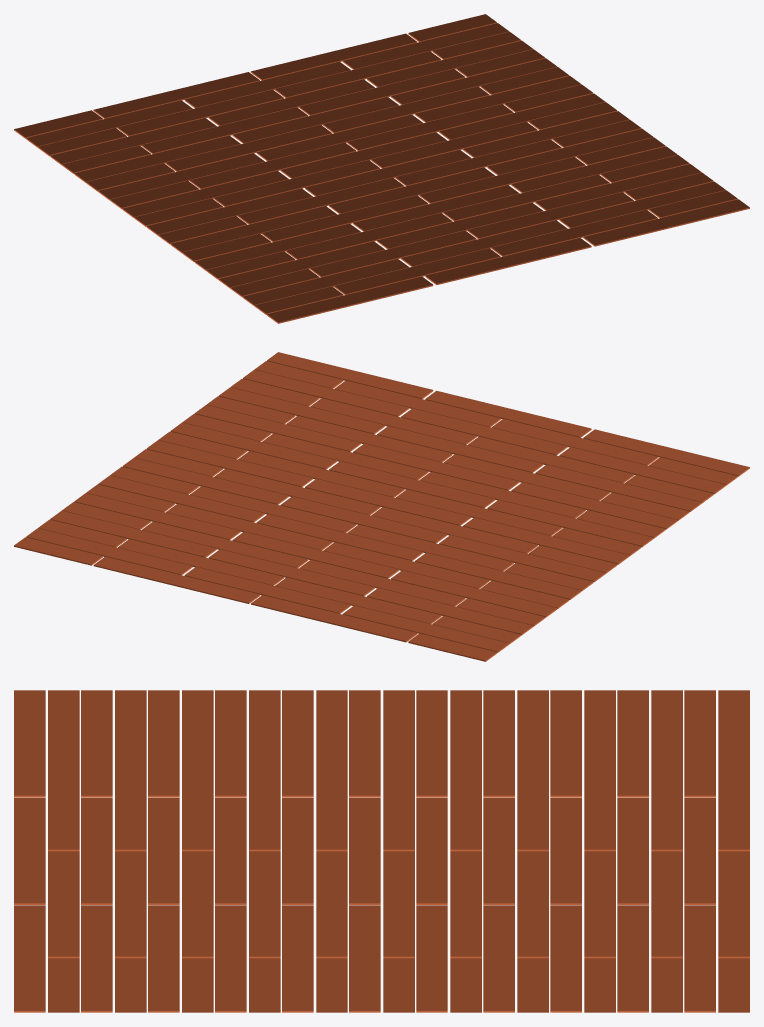
The model's file is Floor 1.fbx.
3 renders of one model, top to bottom at view 1: azimuth 30°, elevation 25°; view 2: azimuth 150°, elevation 25°; view 3: azimuth 270°, elevation 25°, orthographic. The views are drawn at different scales.
Parts seen in each view (by area): view 1: Floor 1; view 2: Floor 1; view 3: Floor 1.
Boxes of the visible parts, x1,y1,x2,y2 form: Floor 1: (14,14,749,323); Floor 1: (14,352,749,661); Floor 1: (14,690,749,1012).
Bounding box in the file's own units: 5.02 × 0.0136 × 5.17.
